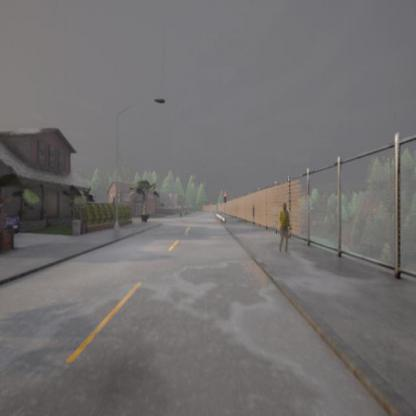person: (276, 204, 291, 254)
